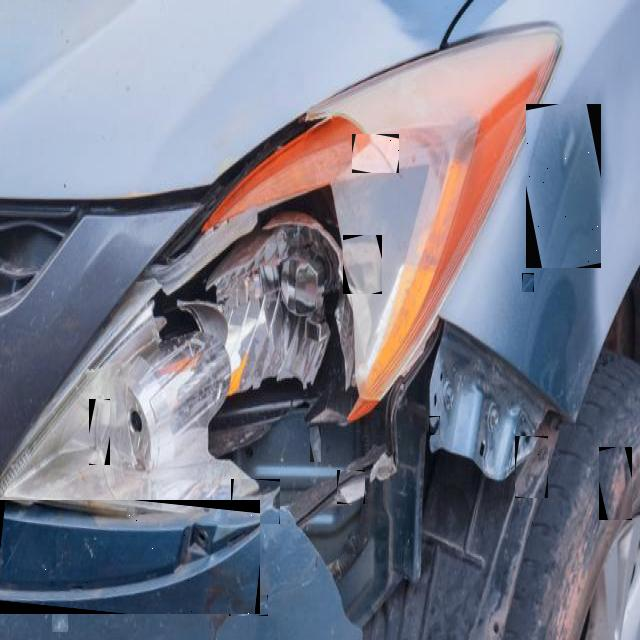Dent: (0, 500, 260, 614), (526, 104, 601, 268), (599, 447, 632, 520), (343, 235, 382, 294), (231, 479, 280, 524), (515, 436, 548, 498), (352, 134, 399, 173), (89, 399, 110, 465), (337, 470, 365, 504), (229, 595, 268, 616), (565, 128, 585, 167), (310, 426, 321, 462), (80, 539, 95, 563), (52, 614, 68, 632), (522, 273, 534, 292), (429, 416, 440, 435), (600, 354, 608, 364)
